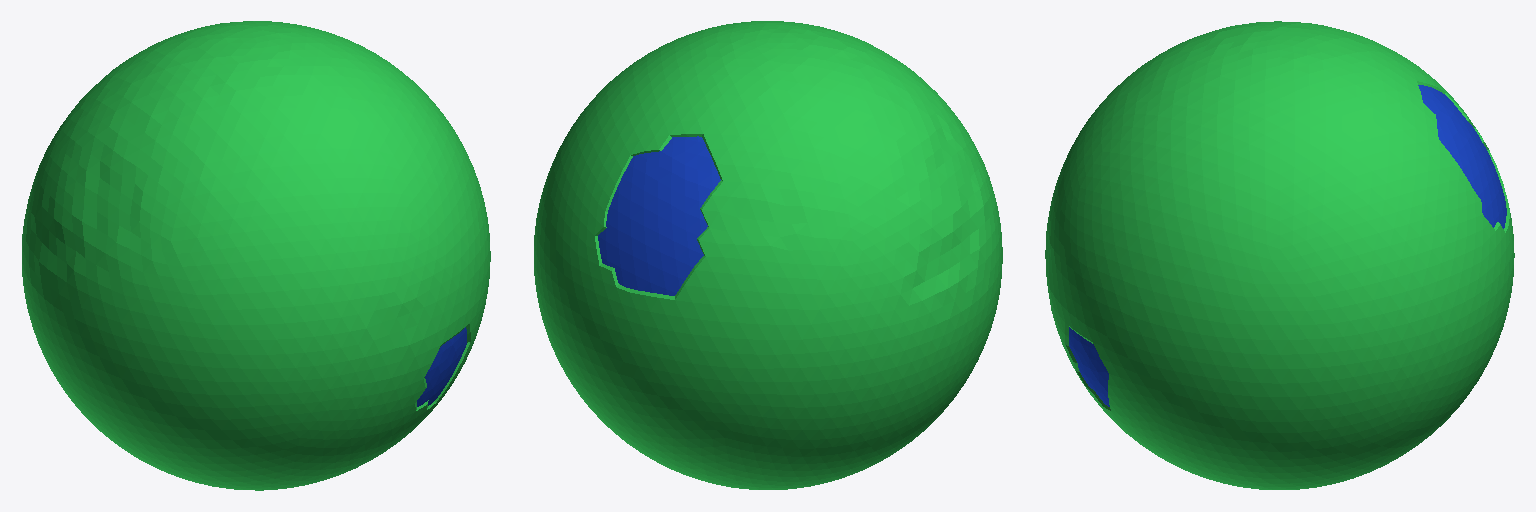
Rendered from planet.obj.
3 views of the same model, side by side, from view 1: azimuth 30°, elevation 25°; view 2: azimuth 150°, elevation 25°; view 3: azimuth 270°, elevation 25° (orthographic).
Visible parts, largest first — view 1: Planete_Icosphere, Eau_Icosphere.006; view 2: Planete_Icosphere, Eau.001_Icosphere.004; view 3: Planete_Icosphere, Eau.001_Icosphere.004, Eau_Icosphere.006.
Part boxes in pixels (left/top/right/bottom): Planete_Icosphere: left=22, top=21, right=490, bottom=490; Eau_Icosphere.006: left=417, top=327, right=466, bottom=406; Planete_Icosphere: left=534, top=21, right=1002, bottom=489; Eau.001_Icosphere.004: left=598, top=136, right=720, bottom=295; Planete_Icosphere: left=1045, top=21, right=1514, bottom=489; Eau.001_Icosphere.004: left=1418, top=85, right=1506, bottom=228; Eau_Icosphere.006: left=1069, top=327, right=1109, bottom=406.
Size of the model in its own units: 2 by 2 by 2.